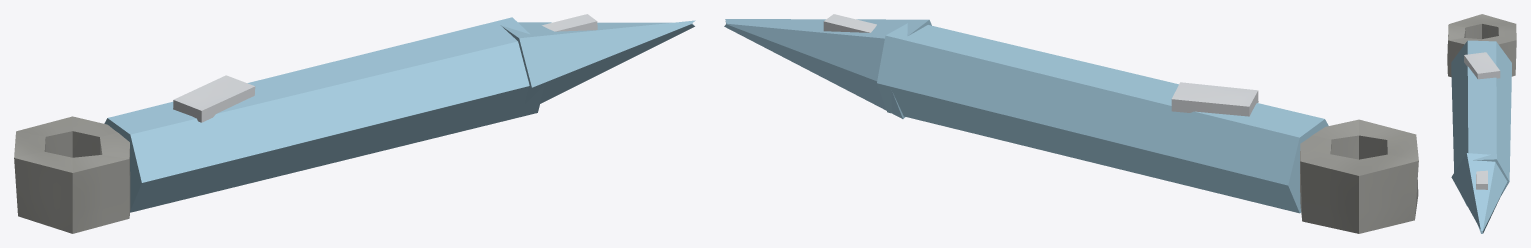
The model's file is needle_ice.glb.
3 renders of one model, left to right at view 1: azimuth 30°, elevation 25°; view 2: azimuth 150°, elevation 25°; view 3: azimuth 270°, elevation 25°, orthographic. The views are drawn at different scales.
Visible parts, largest first — view 1: NeedleIce; view 2: NeedleIce; view 3: NeedleIce.
Part boxes in pixels (bbox=[...]): NeedleIce: bbox=[14, 14, 695, 233]; NeedleIce: bbox=[724, 14, 1418, 233]; NeedleIce: bbox=[1447, 14, 1516, 233].
Size of the model in its own units: 0.3375 by 0.0413 by 0.0496.
Materials: 3 (2 with a texture image).
